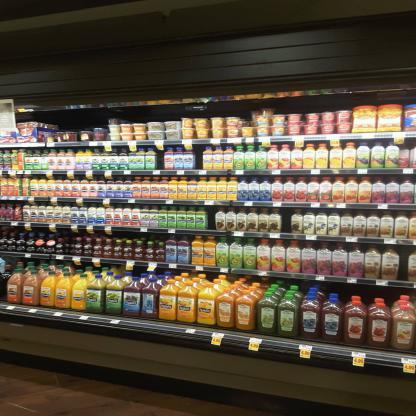Void: (57, 114, 98, 128), (283, 102, 349, 110), (124, 110, 176, 119), (214, 106, 246, 115), (21, 114, 49, 122), (280, 210, 291, 230), (402, 254, 408, 278), (156, 150, 164, 167), (209, 210, 214, 228), (197, 149, 200, 169)
